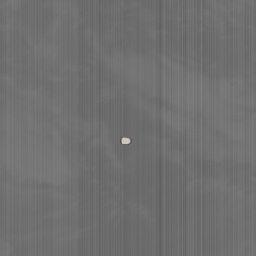Target: (118, 136, 131, 145)
